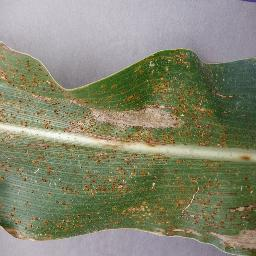Corn_Blight: (0, 174, 139, 242), (138, 176, 256, 256), (1, 90, 195, 129), (2, 129, 180, 171), (131, 45, 208, 85), (196, 81, 237, 147), (0, 42, 52, 87), (183, 156, 240, 176), (241, 153, 255, 165)
